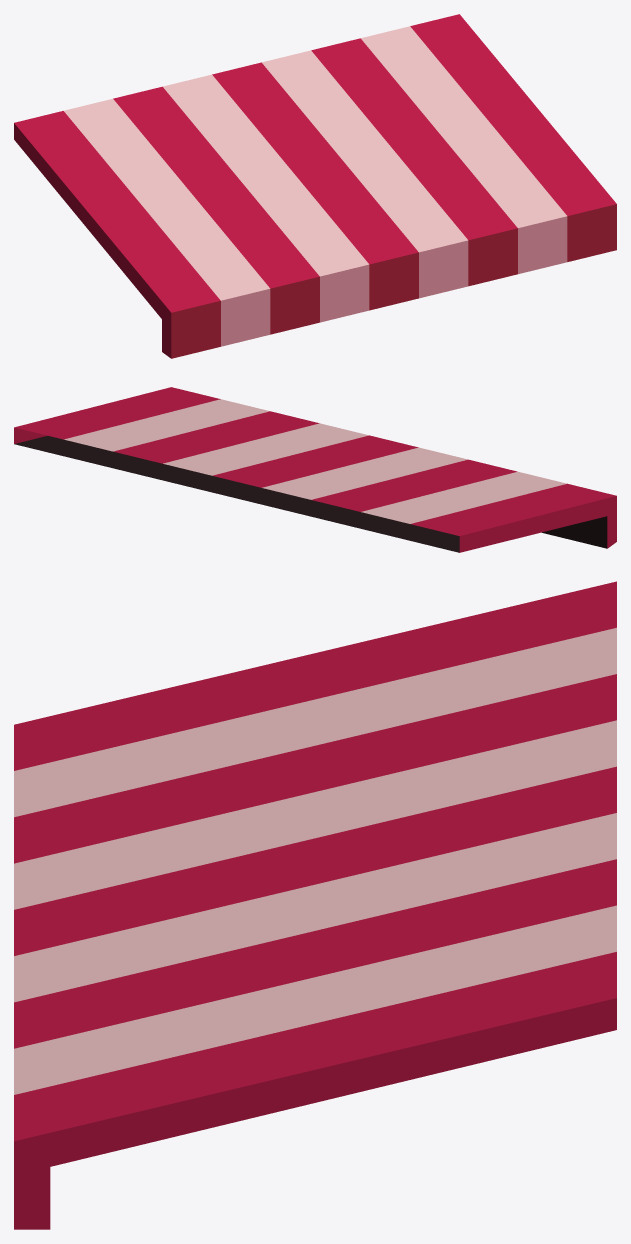
The model's file is TB_CITY_BD_Canopy_Big_G.FBX.
The picture shows the model from 3 angles, top to bottom: view 1: azimuth 30°, elevation 25°; view 2: azimuth 150°, elevation 25°; view 3: azimuth 270°, elevation 25°; orthographic projection. The views are drawn at different scales.
Parts seen in each view (by area): view 1: TB_CITY_BD_Canopy_Big_G; view 2: TB_CITY_BD_Canopy_Big_G; view 3: TB_CITY_BD_Canopy_Big_G.
Boxes of the visible parts, box(x1,y1,x2,y2) form: TB_CITY_BD_Canopy_Big_G: box(14, 14, 616, 358); TB_CITY_BD_Canopy_Big_G: box(14, 387, 616, 552); TB_CITY_BD_Canopy_Big_G: box(14, 581, 616, 1229).
Size of the model in its own units: 6.47 by 1.68 by 3.96.
